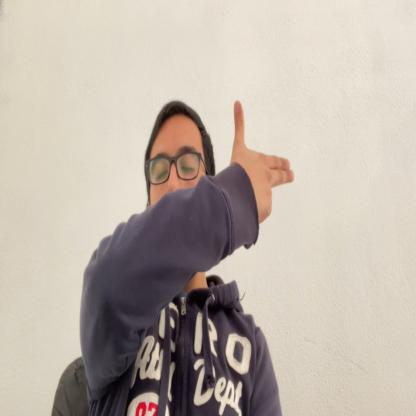H: (231, 99, 295, 225)
